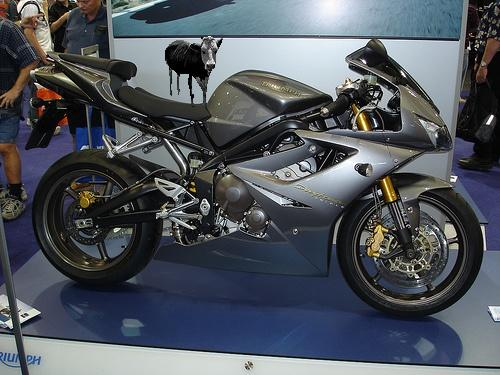tampered: (166, 37, 223, 107)
